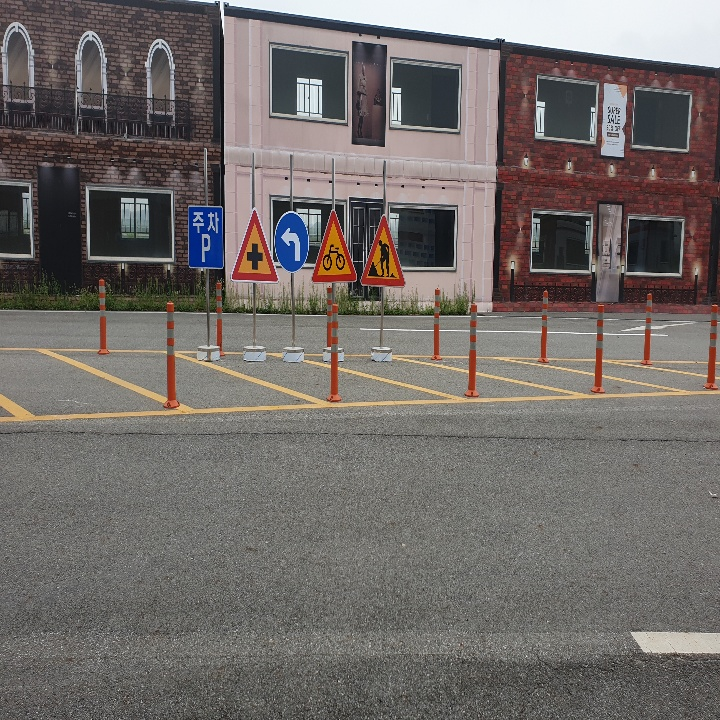bicycle: (309, 212, 357, 283)
const: (365, 235, 399, 281)
inter: (241, 241, 268, 270)
left: (277, 224, 304, 268)
parking: (195, 229, 215, 265)
